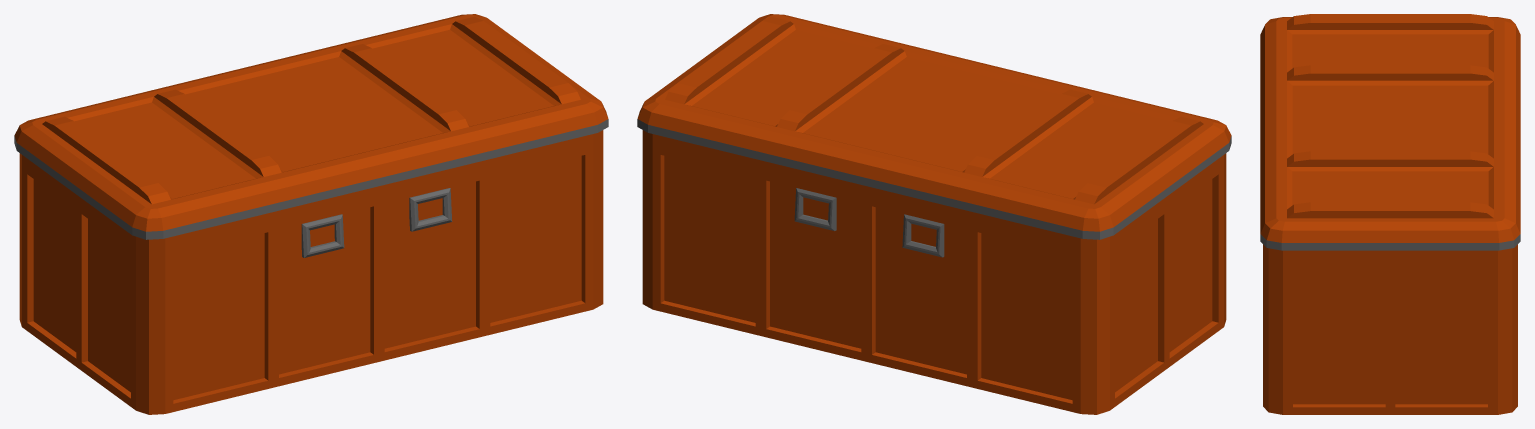
Rendered from Chest.fbx.
3 views of the same model, side by side, from view 1: azimuth 30°, elevation 25°; view 2: azimuth 150°, elevation 25°; view 3: azimuth 270°, elevation 25° (orthographic). The views are drawn at different scales.
Visible parts, largest first — view 1: Cube, Cube.001, Cube.002, Cube.003; view 2: Cube, Cube.001, Cube.004, Cube.005; view 3: Cube.001, Cube.
Boxes of the visible parts, x1,y1,x2,y2 form: Cube: [19, 130, 603, 414]; Cube.001: [14, 14, 608, 239]; Cube.002: [301, 214, 344, 257]; Cube.003: [409, 188, 452, 231]; Cube: [642, 130, 1226, 414]; Cube.001: [637, 14, 1231, 239]; Cube.004: [902, 214, 944, 257]; Cube.005: [794, 188, 836, 230]; Cube.001: [1260, 14, 1520, 250]; Cube: [1263, 244, 1517, 414].
Bounding box in the file's own units: 224 × 94.11 × 113.
